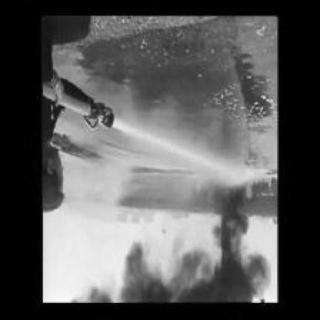Smoke: (89, 267, 268, 304)
